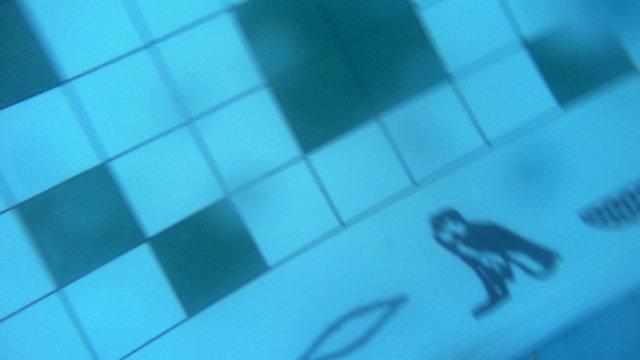Mouth: (288, 292, 417, 360)
Owl: (416, 202, 570, 321)
